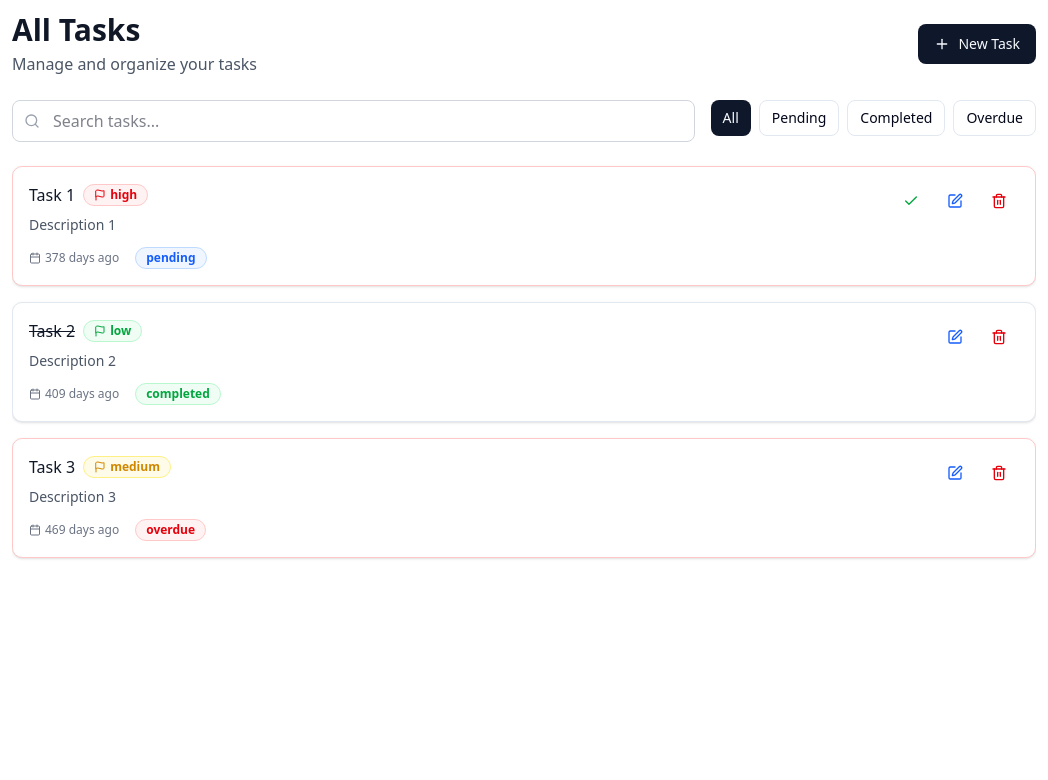
TasksPage › filters tasks by status - overdue
Expected: the heading "Task 3" is shown, x1=29 y1=455 x2=75 y2=479
Click the button "overdue" at (995, 118), box x1=953 y1=100 x2=1036 y2=136
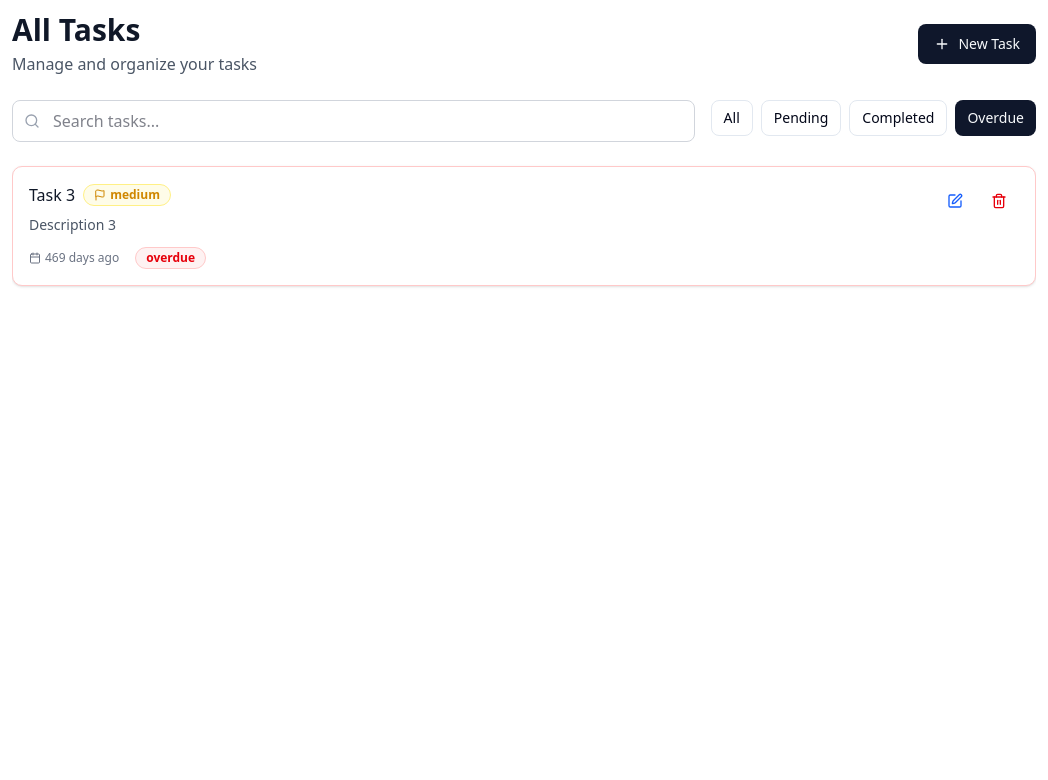
Expected: the heading "Task 3" is shown, x1=29 y1=183 x2=75 y2=207
Now the heading "Task 1" is gone
Now the heading "Task 2" is gone
